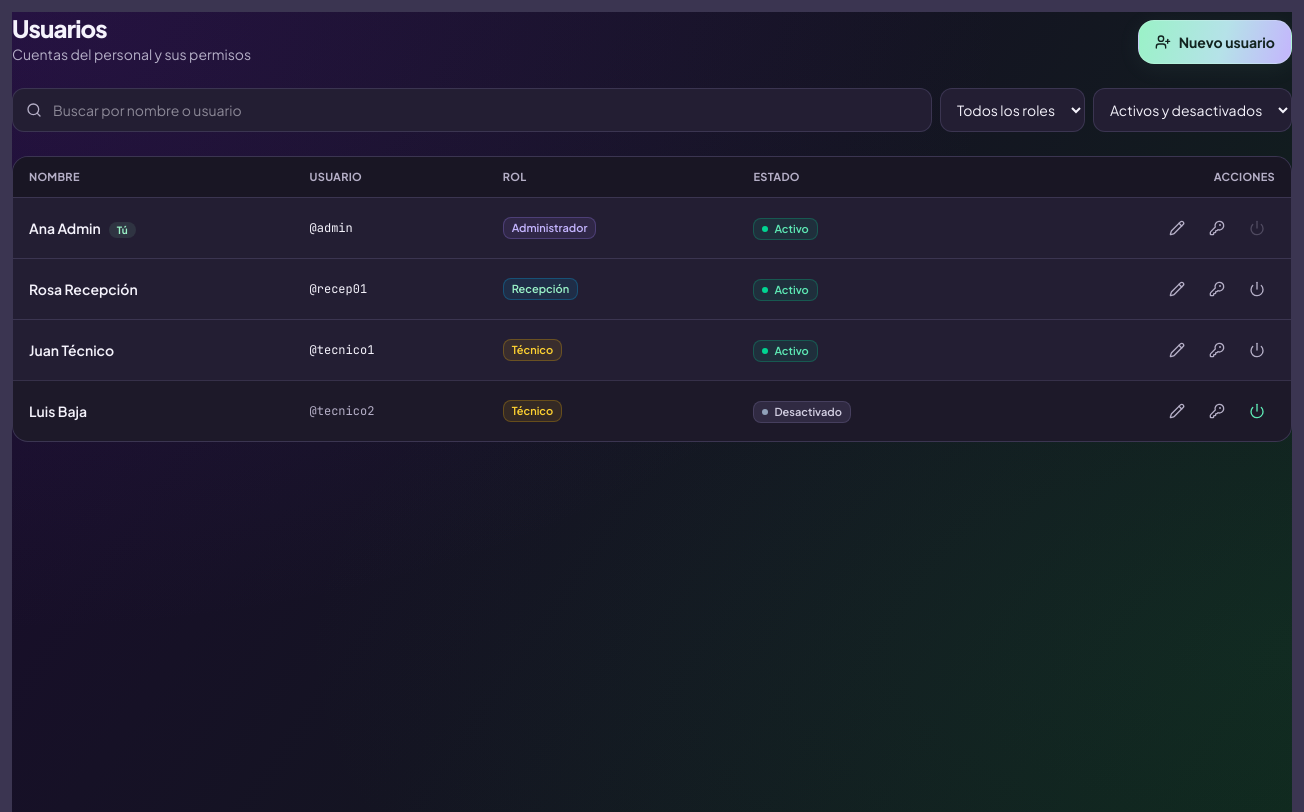
Test: UsersPage listing › filters by text, role and status in the browser [008/RF-1.2]
This screenshot has width=1304, height=812.
expect the text "Rosa Recepción" is shown: met, box [13, 258, 294, 319]
In the search field named "Buscar usuarios": [472, 110] box [12, 88, 932, 132], type "tecnico"
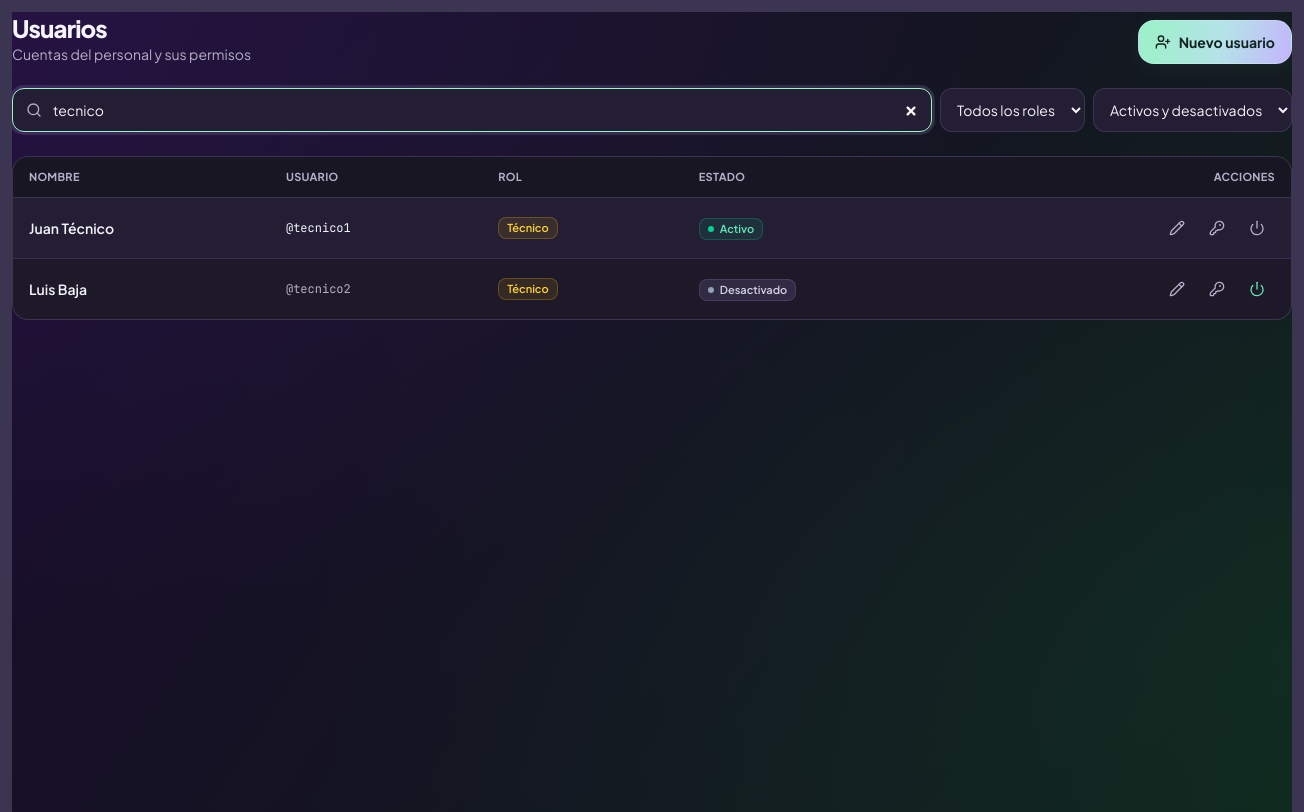
expect the text "Juan Técnico" is shown: met, box [13, 197, 270, 258]
expect the text "Rosa Recepción" is gone: met
Select "Solo desactivados" in the 2nd dropdown named "Filtrar por estado": [1192, 110] box [1093, 88, 1292, 132]
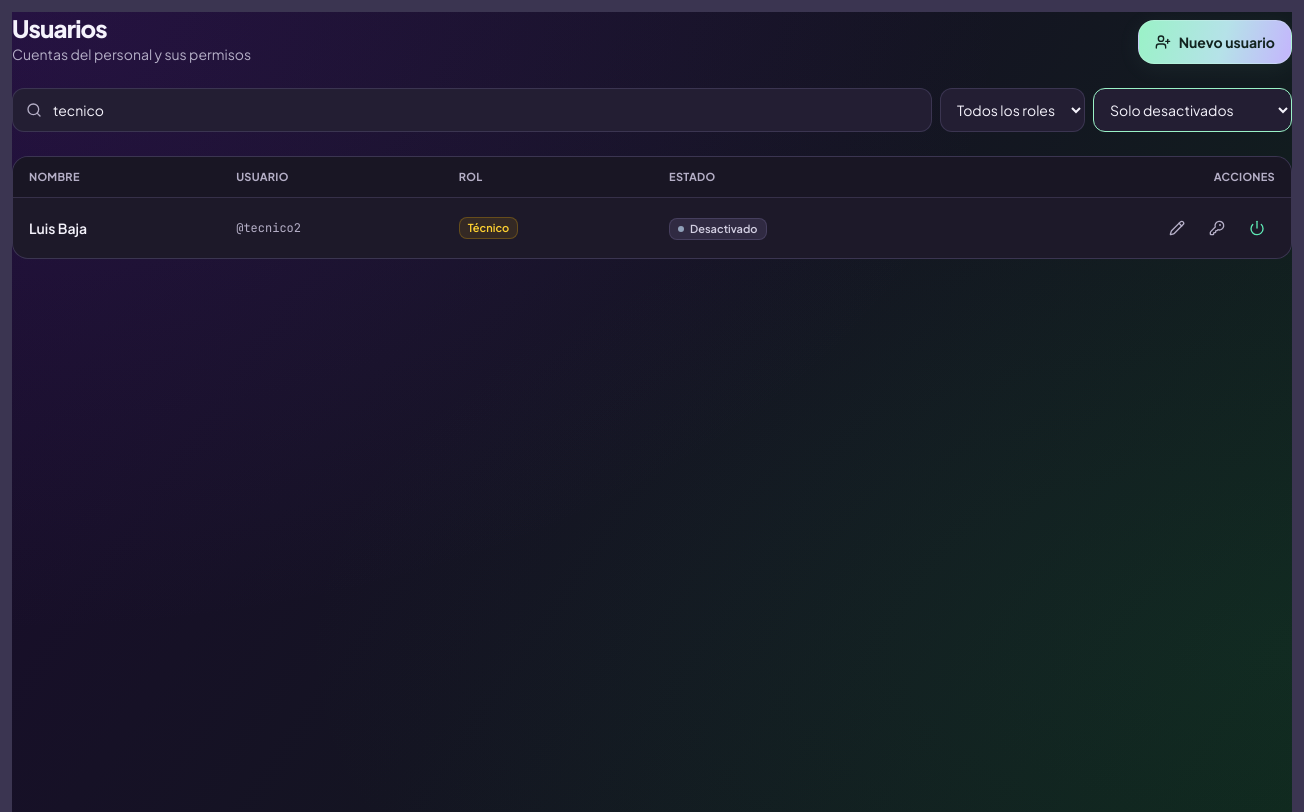
expect the text "Luis Baja" is shown: met, box [13, 197, 220, 258]
expect the text "Juan Técnico" is gone: met
Select "Administrador" in the 1st dropdown named "Filtrar por rol": [1012, 110] box [940, 88, 1085, 132]
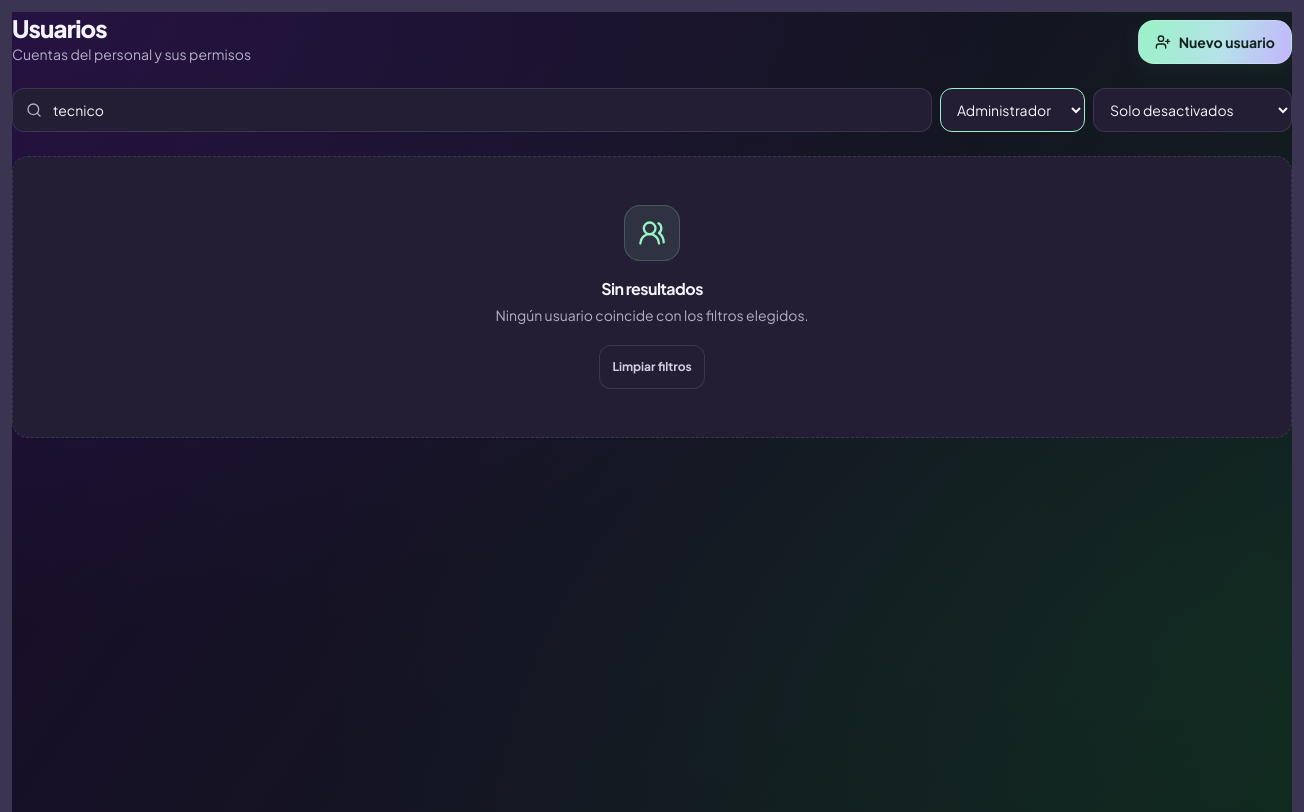
expect the heading "Sin resultados" is shown: met, box [601, 277, 703, 301]
Click the button "Limpiar filtros": [652, 367] box [599, 345, 705, 389]
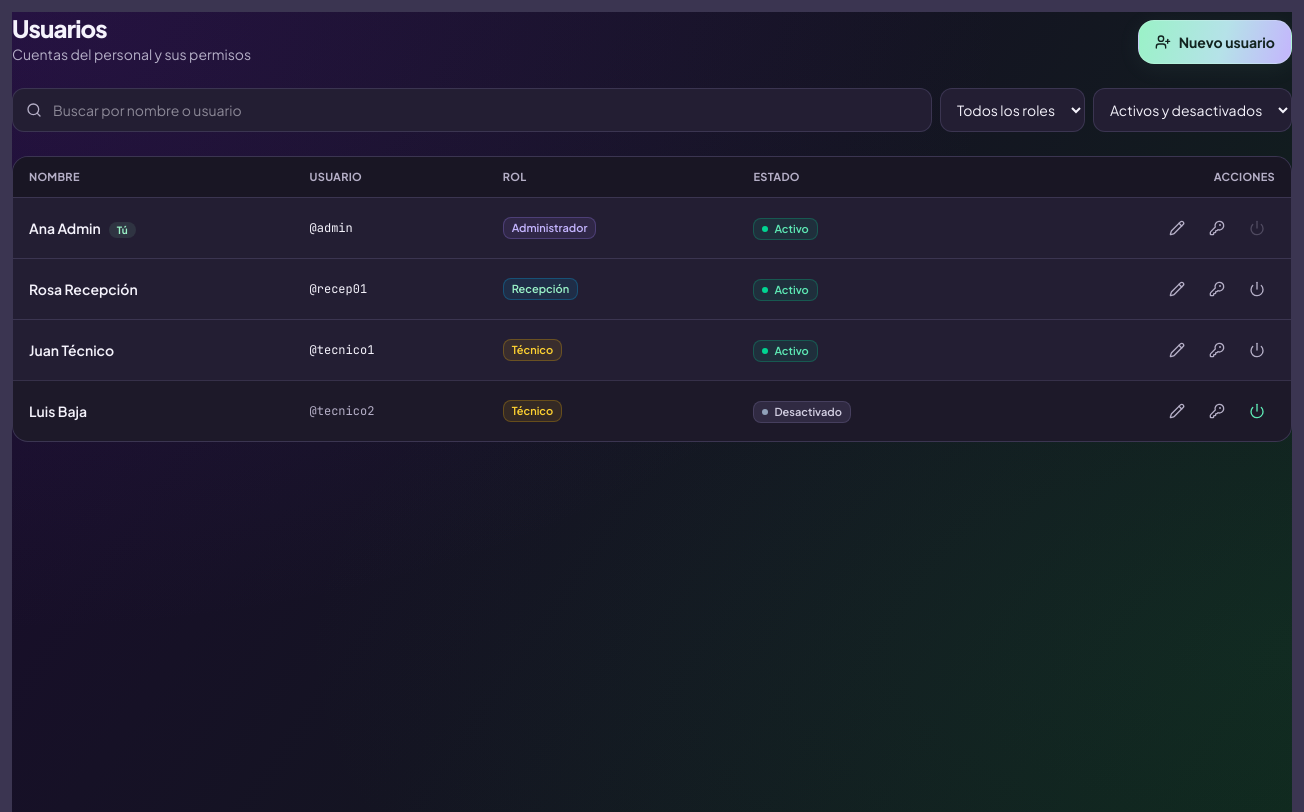
expect the text "Rosa Recepción" is shown: met, box [13, 258, 294, 319]
